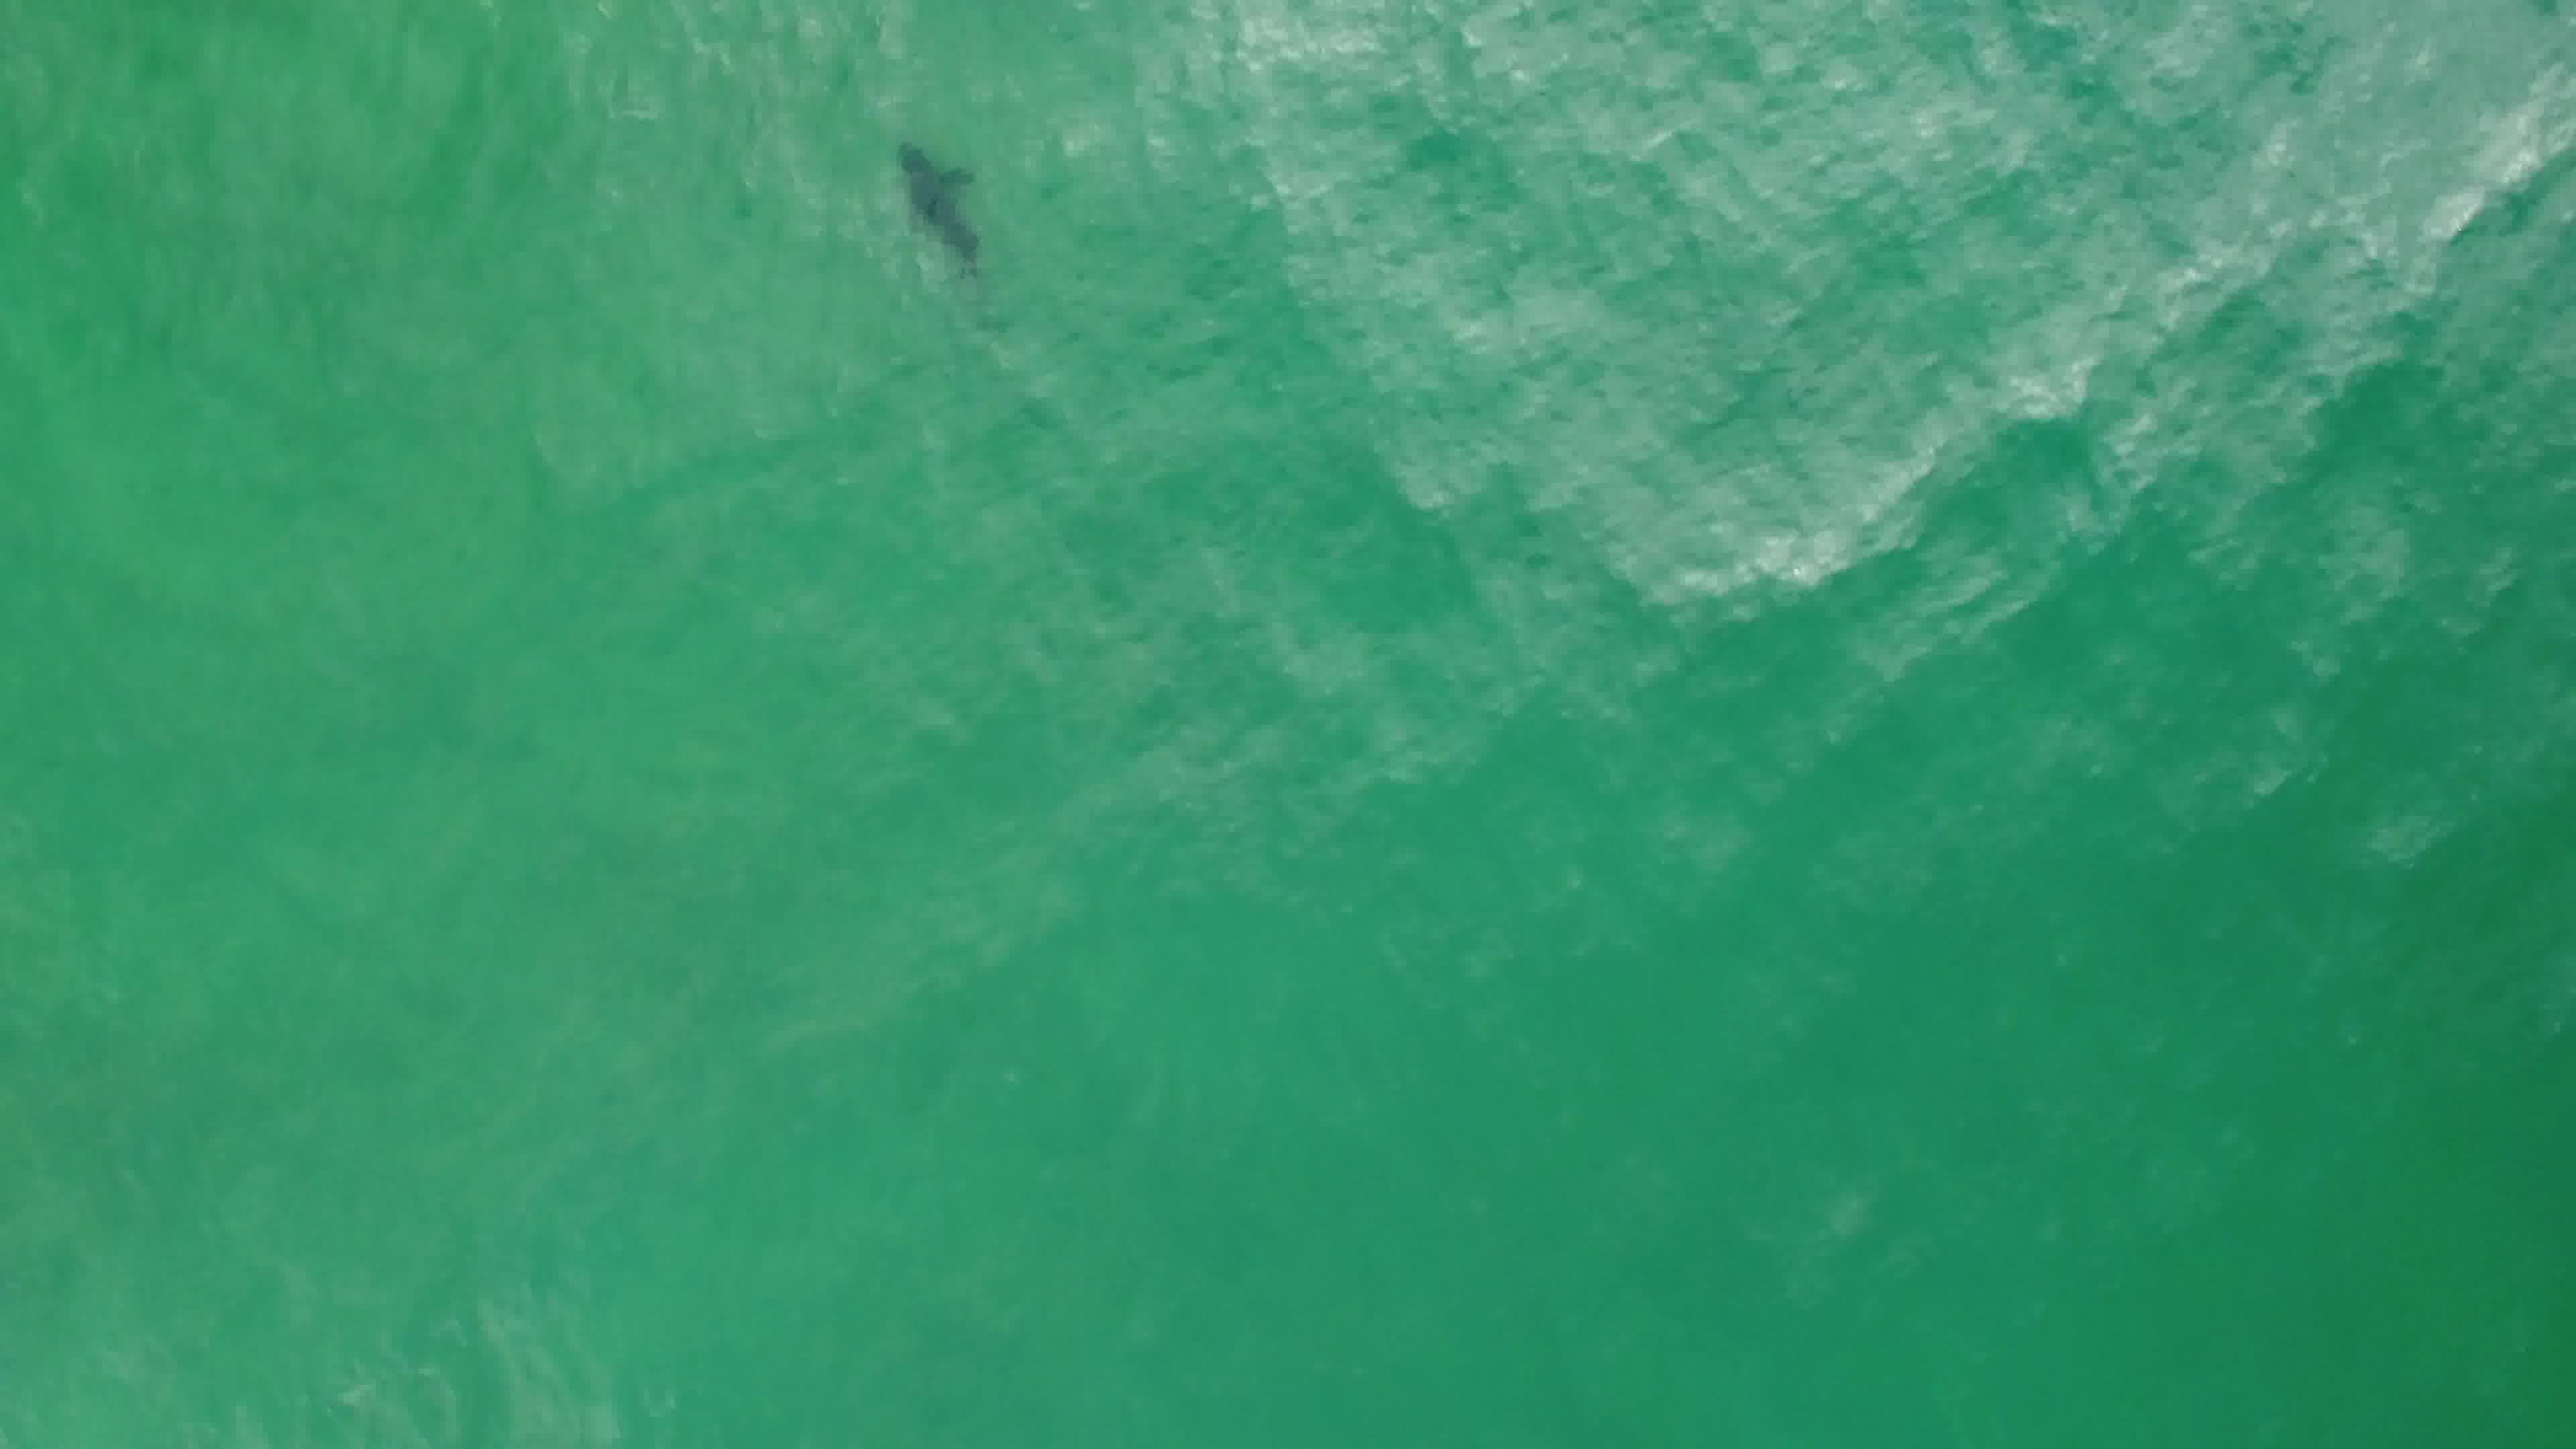shark: (879, 134, 998, 283)
